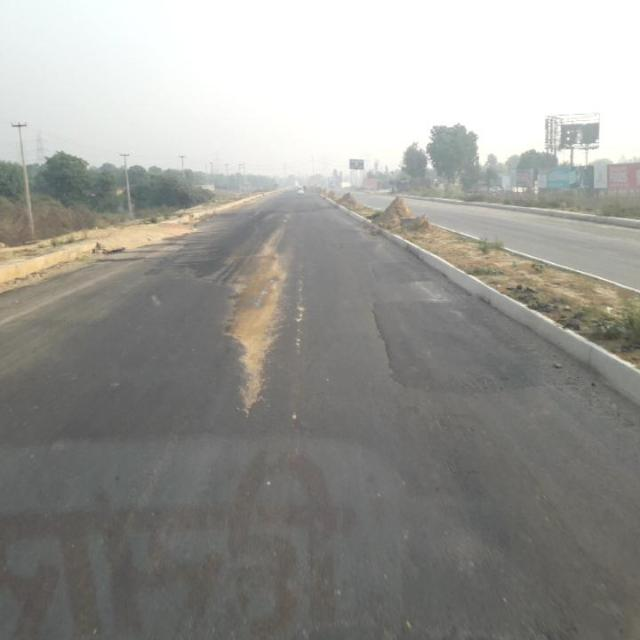D00: (284, 252, 302, 377)
